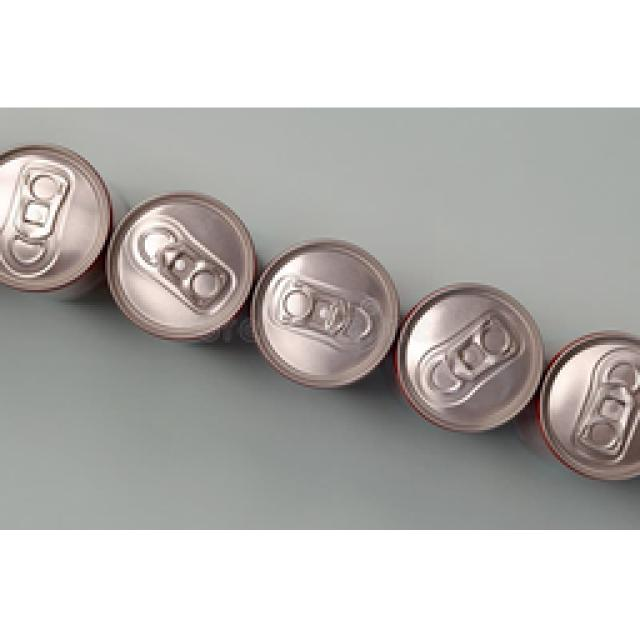aluminum_soda_cans: (395, 268, 537, 440), (116, 170, 236, 347), (273, 232, 395, 392), (0, 137, 110, 305), (541, 316, 640, 488)
